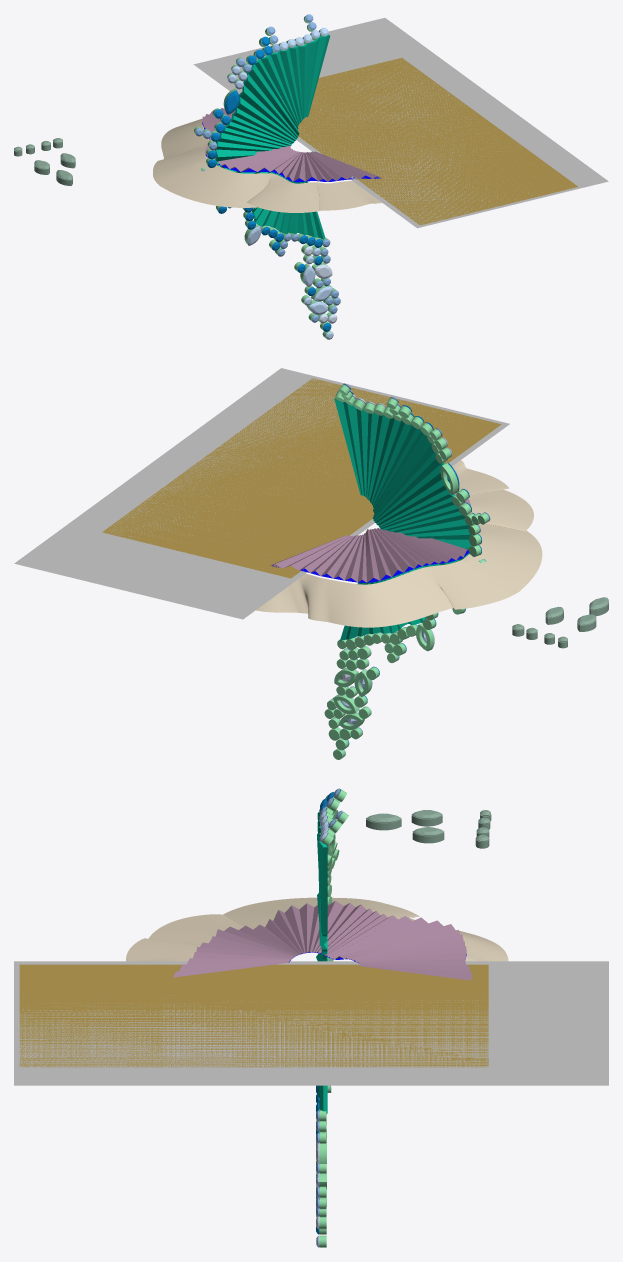
The picture shows the model from 3 angles, top to bottom: view 1: azimuth 30°, elevation 25°; view 2: azimuth 150°, elevation 25°; view 3: azimuth 270°, elevation 25°; orthographic projection. The views are drawn at different scales.
Parts seen in each view (by area): view 1: Brinco 001.3dm; view 2: Brinco 001.3dm; view 3: Brinco 001.3dm.
Part boxes in pixels (<box>): Brinco 001.3dm: <box>14,16,608,338</box>; Brinco 001.3dm: <box>14,368,608,759</box>; Brinco 001.3dm: <box>14,789,608,1247</box>.
Bounding box in the file's own units: 4.93 × 3.63 × 4.58.
